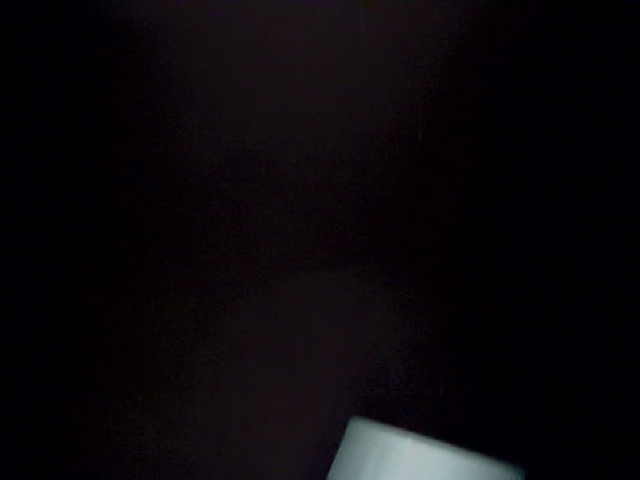KHSLJ: (100, 223, 629, 480)
